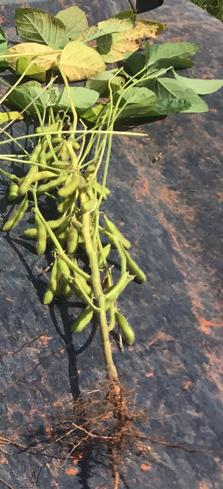soja: (122, 253, 152, 286), (104, 215, 132, 250), (4, 202, 31, 236), (118, 313, 141, 351), (42, 263, 61, 306), (71, 306, 95, 335), (35, 209, 48, 260), (56, 172, 83, 195), (38, 175, 68, 194), (57, 195, 78, 217), (21, 169, 38, 196), (66, 220, 78, 258), (89, 185, 109, 207), (31, 121, 61, 135), (97, 246, 114, 268), (21, 226, 44, 242), (62, 277, 76, 302), (43, 144, 62, 162), (94, 180, 113, 198), (43, 220, 72, 231), (32, 146, 44, 168), (8, 183, 17, 208), (36, 171, 58, 181), (69, 137, 81, 154)
